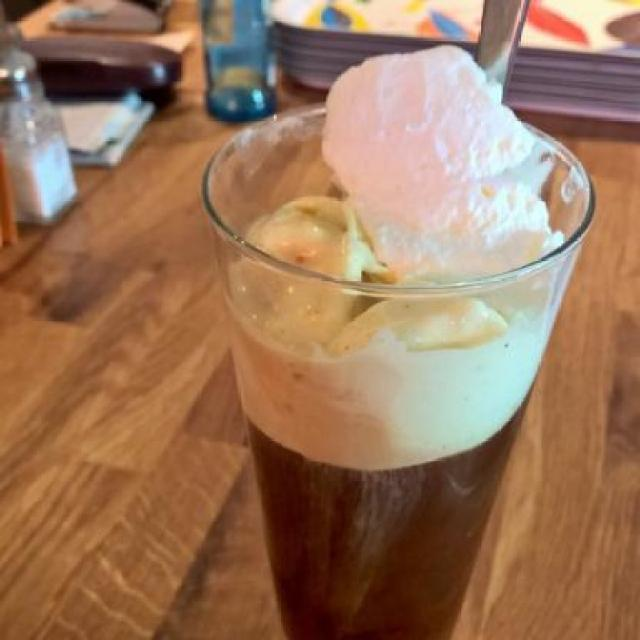Ice cream: (226, 37, 588, 466)
